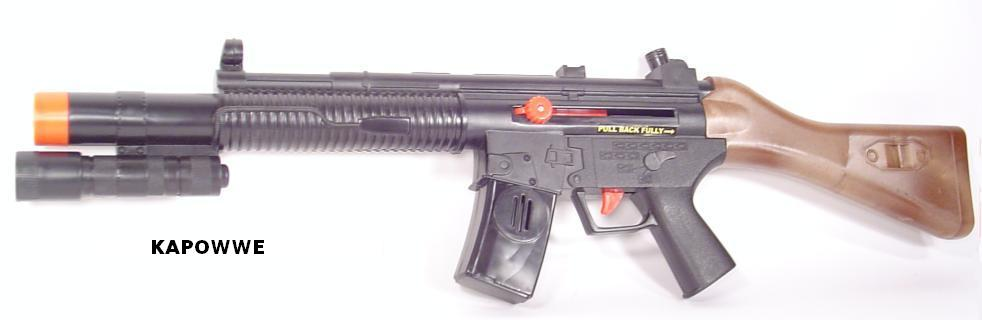rifle: (16, 38, 970, 314)
